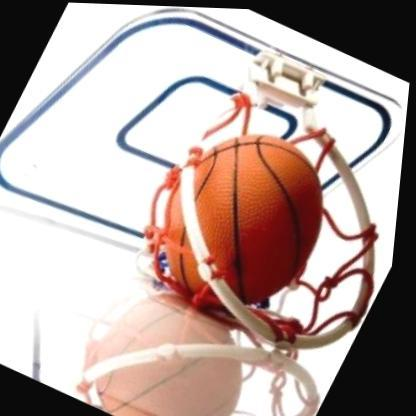basketball: (131, 95, 365, 330)
